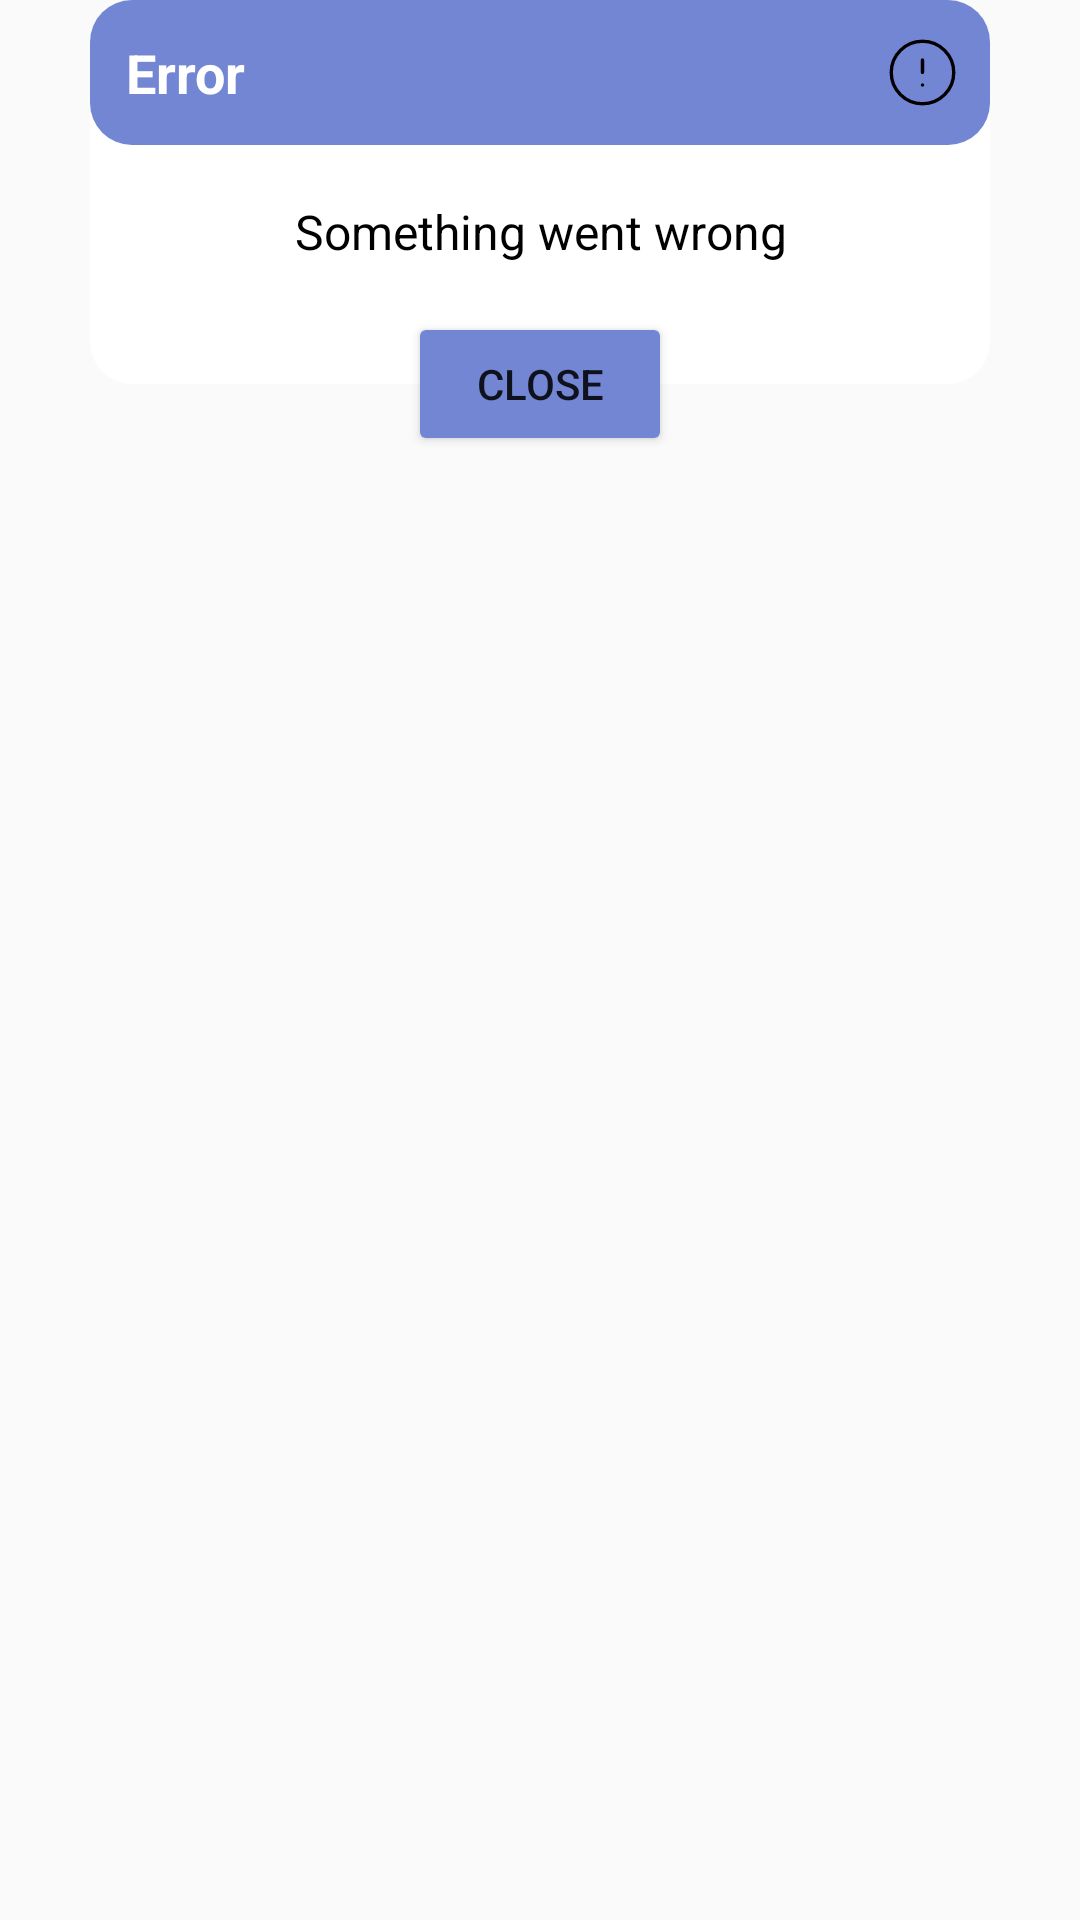

Point at icon controls on the screen. Image size 1080 × 1920, points as [x,y].
alert circle: [922,72]
